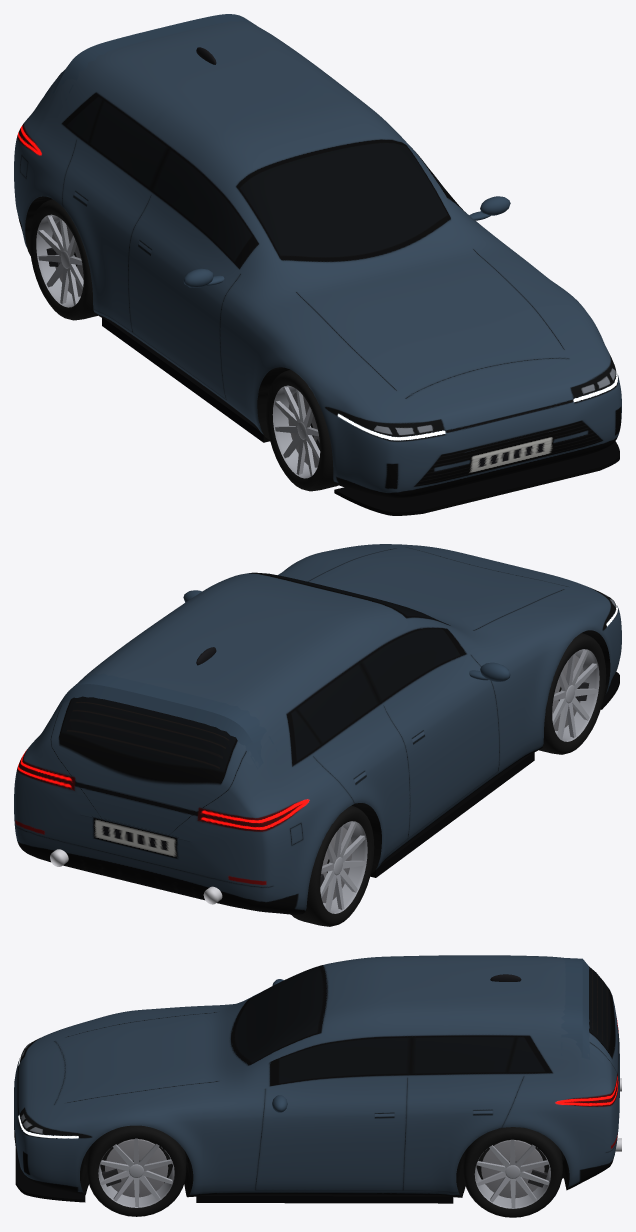
File: hatchback.glb
The picture shows the model from 3 angles, top to bottom: view 1: azimuth 30°, elevation 25°; view 2: azimuth 150°, elevation 25°; view 3: azimuth 270°, elevation 25°; orthographic projection. The views are drawn at different scales.
Visible parts, largest first — view 1: Body, Wheel_FR, Wheel_RR; view 2: Body, Wheel_RR, Wheel_FR; view 3: Body, Wheel_FL, Wheel_RL.
Part boxes in pixels (x1,y1,x2,y2): Body: (14, 14, 621, 515); Wheel_FR: (266, 369, 338, 491); Wheel_RR: (29, 199, 97, 320); Body: (14, 544, 621, 914); Wheel_RR: (291, 805, 374, 926); Wheel_FR: (539, 633, 606, 754); Body: (14, 955, 621, 1203); Wheel_FL: (86, 1125, 186, 1216); Wheel_RL: (463, 1127, 562, 1217).
Size of the model in its own units: 2.12 by 1.47 by 4.27.
10 materials, 1 textured.
